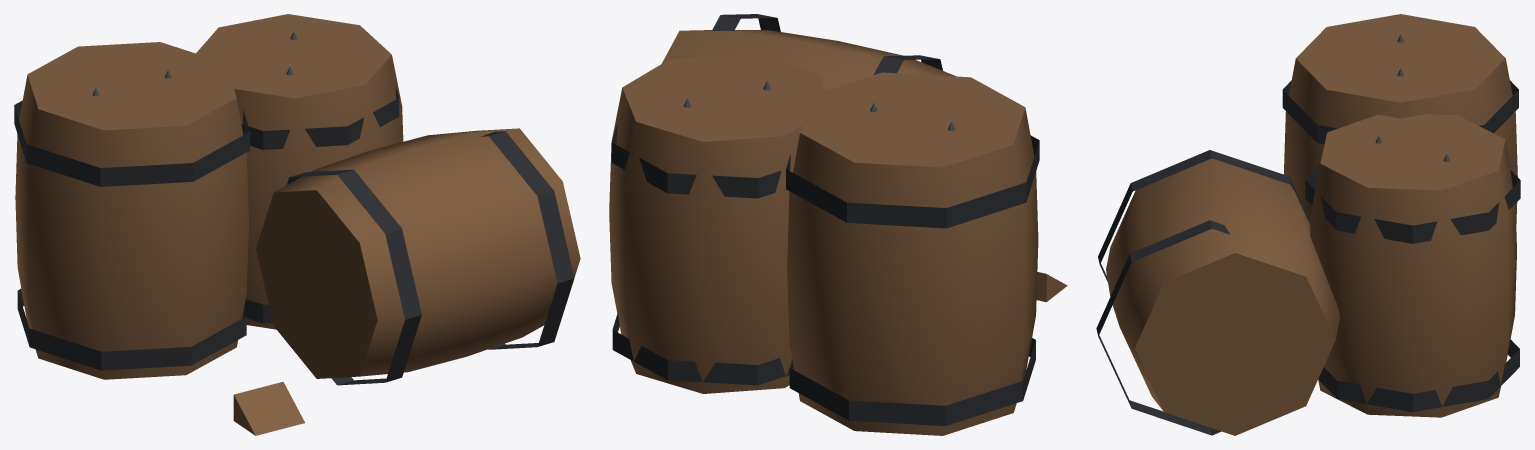
Rendered from SM_Barrel_Keep_03_Stack.glb.
The picture shows the model from 3 angles, left to right: view 1: azimuth 30°, elevation 25°; view 2: azimuth 150°, elevation 25°; view 3: azimuth 270°, elevation 25°; orthographic projection. The views are drawn at different scales.
Visible parts, largest first — view 1: SM_Barrel_Keep_03_Stack_Up0, SM_Barrel_Keep_03_Stack_Lying, SM_Barrel_Keep_03_Stack_Up1, SM_Barrel_Keep_03_Stack_Up0Hoop1, SM_Barrel_Keep_03_Stack_Up0Hoop0, SM_Barrel_Keep_03_Stack_LyHoop0, SM_Barrel_Keep_03_Stack_LyHoop1, SM_Barrel_Keep_03_Stack_Chock0, SM_Barrel_Keep_03_Stack_Up1Hoop1; view 2: SM_Barrel_Keep_03_Stack_Up0, SM_Barrel_Keep_03_Stack_Up1, SM_Barrel_Keep_03_Stack_Lying, SM_Barrel_Keep_03_Stack_Up0Hoop1, SM_Barrel_Keep_03_Stack_Up0Hoop0, SM_Barrel_Keep_03_Stack_Up1Hoop0, SM_Barrel_Keep_03_Stack_Up1Hoop1, SM_Barrel_Keep_03_Stack_LyHoop1, SM_Barrel_Keep_03_Stack_LyHoop0, SM_Barrel_Keep_03_Stack_Chock0; view 3: SM_Barrel_Keep_03_Stack_Up1, SM_Barrel_Keep_03_Stack_Lying, SM_Barrel_Keep_03_Stack_Up0, SM_Barrel_Keep_03_Stack_Up1Hoop0, SM_Barrel_Keep_03_Stack_Up1Hoop1, SM_Barrel_Keep_03_Stack_LyHoop1, SM_Barrel_Keep_03_Stack_LyHoop0, SM_Barrel_Keep_03_Stack_Up0Hoop1.
Part boxes in pixels (left/top/right/bottom): SM_Barrel_Keep_03_Stack_Up0: left=15, top=42, right=248, bottom=379; SM_Barrel_Keep_03_Stack_Lying: left=256, top=128, right=580, bottom=378; SM_Barrel_Keep_03_Stack_Up1: left=196, top=14, right=403, bottom=329; SM_Barrel_Keep_03_Stack_Up0Hoop1: left=14, top=100, right=249, bottom=186; SM_Barrel_Keep_03_Stack_Up0Hoop0: left=17, top=289, right=246, bottom=370; SM_Barrel_Keep_03_Stack_LyHoop0: left=287, top=169, right=421, bottom=385; SM_Barrel_Keep_03_Stack_LyHoop1: left=481, top=131, right=574, bottom=349; SM_Barrel_Keep_03_Stack_Chock0: left=233, top=381, right=304, bottom=435; SM_Barrel_Keep_03_Stack_Up1Hoop1: left=241, top=87, right=399, bottom=149; SM_Barrel_Keep_03_Stack_Up0: left=787, top=72, right=1038, bottom=435; SM_Barrel_Keep_03_Stack_Up1: left=609, top=53, right=825, bottom=393; SM_Barrel_Keep_03_Stack_Lying: left=661, top=30, right=956, bottom=90; SM_Barrel_Keep_03_Stack_Up0Hoop1: left=786, top=135, right=1039, bottom=228; SM_Barrel_Keep_03_Stack_Up0Hoop0: left=789, top=338, right=1035, bottom=425; SM_Barrel_Keep_03_Stack_Up1Hoop0: left=612, top=312, right=789, bottom=385; SM_Barrel_Keep_03_Stack_Up1Hoop1: left=611, top=124, right=781, bottom=198; SM_Barrel_Keep_03_Stack_LyHoop1: left=712, top=14, right=780, bottom=31; SM_Barrel_Keep_03_Stack_LyHoop0: left=873, top=55, right=942, bottom=75; SM_Barrel_Keep_03_Stack_Chock0: left=1036, top=272, right=1067, bottom=302; SM_Barrel_Keep_03_Stack_Up1: left=1310, top=114, right=1516, bottom=417; SM_Barrel_Keep_03_Stack_Lying: left=1106, top=158, right=1340, bottom=435; SM_Barrel_Keep_03_Stack_Up0: left=1284, top=14, right=1517, bottom=223; SM_Barrel_Keep_03_Stack_Up1Hoop0: left=1318, top=339, right=1519, bottom=411; SM_Barrel_Keep_03_Stack_Up1Hoop1: left=1305, top=165, right=1520, bottom=243; SM_Barrel_Keep_03_Stack_LyHoop1: left=1096, top=220, right=1230, bottom=435; SM_Barrel_Keep_03_Stack_LyHoop0: left=1098, top=150, right=1310, bottom=281; SM_Barrel_Keep_03_Stack_Up0Hoop1: left=1282, top=80, right=1518, bottom=144.
Bounding box in the file's own units: 1.15 × 0.6938 × 1.05.
